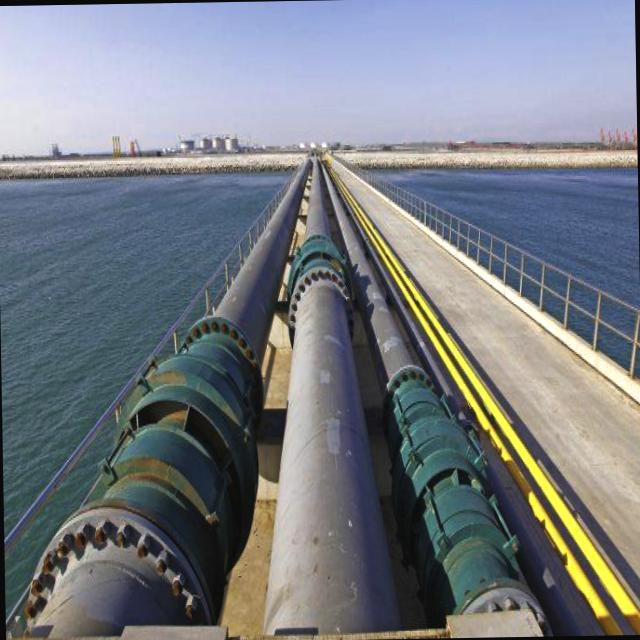gas: (332, 167, 640, 635), (28, 154, 312, 633), (332, 166, 618, 635), (323, 167, 534, 622), (267, 153, 402, 630)
